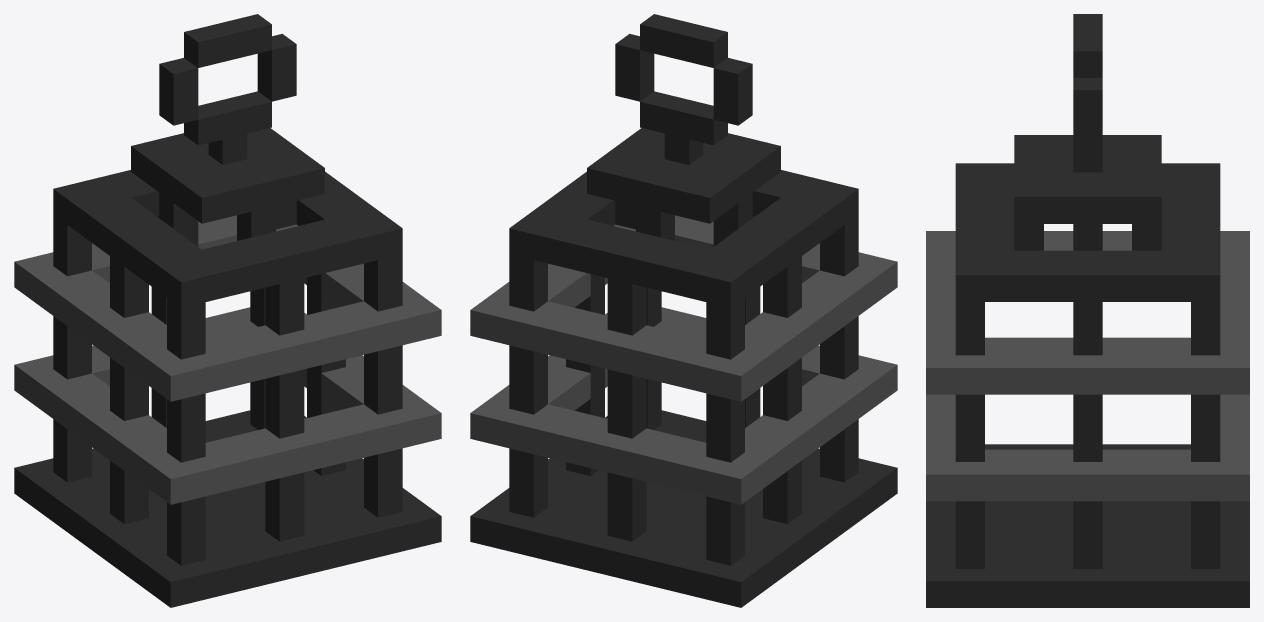
File: cage_1.obj
3 views of the same model, side by side, from view 1: azimuth 30°, elevation 25°; view 2: azimuth 150°, elevation 25°; view 3: azimuth 270°, elevation 25° (orthographic). The views are drawn at different scales.
Size of the model in its own units: 1.1 by 1.9 by 1.1.
1 material, 1 textured.
